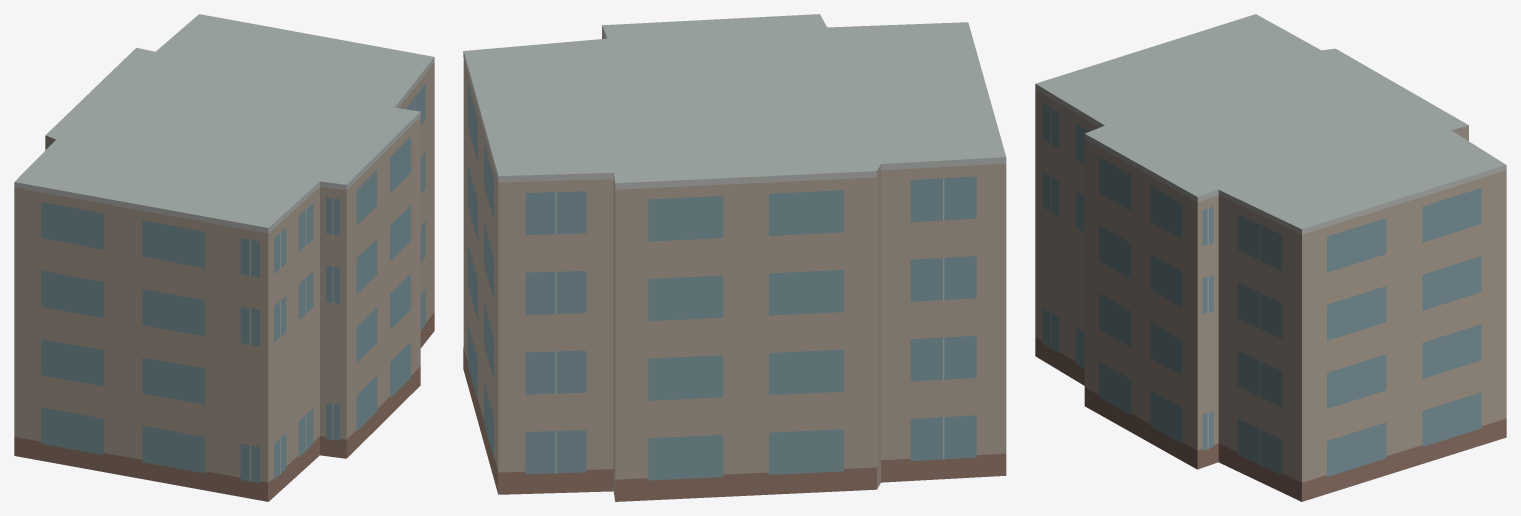
The model's file is survey-upis-33014767.glb.
3 renders of one model, left to right at view 1: azimuth 30°, elevation 25°; view 2: azimuth 150°, elevation 25°; view 3: azimuth 270°, elevation 25°, orthographic. The views are drawn at different scales.
Parts seen in each view (by area): view 1: survey-upis-33014767.tmp; view 2: survey-upis-33014767.tmp; view 3: survey-upis-33014767.tmp.
Part boxes in pixels (x1,y1,x2,y2): survey-upis-33014767.tmp: [14, 14, 434, 501]; survey-upis-33014767.tmp: [463, 14, 1006, 501]; survey-upis-33014767.tmp: [1035, 14, 1506, 501].
Size of the model in its own units: 20.68 by 12.2 by 19.12.
